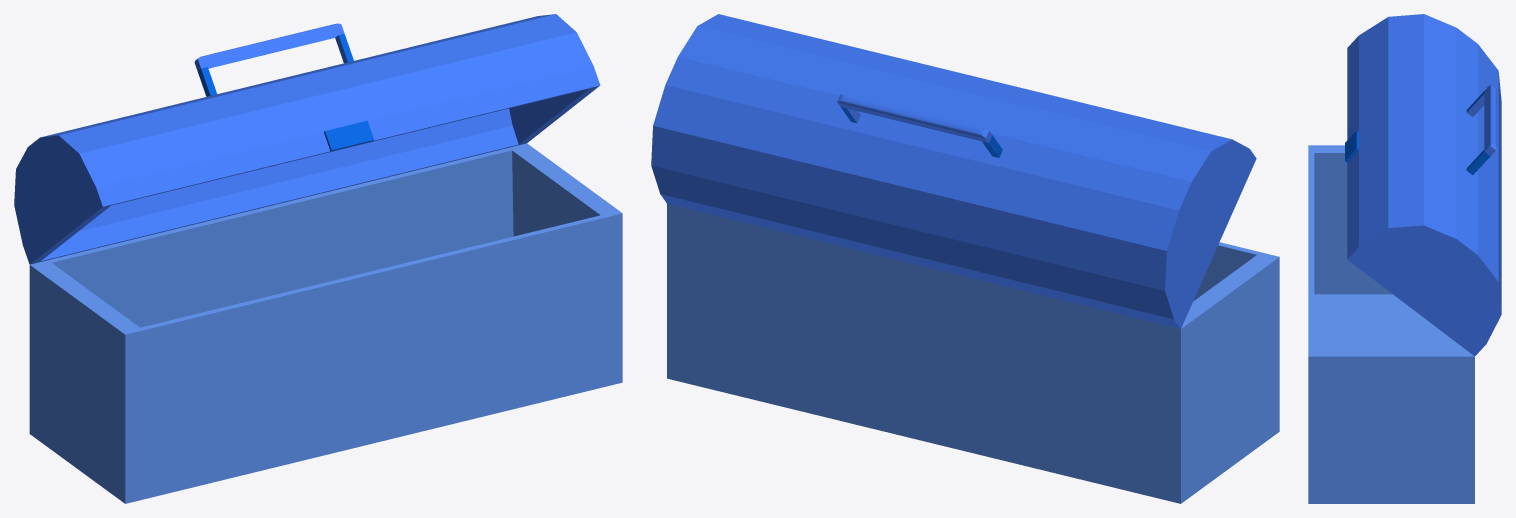
The model's file is Toolbox_1.fbx.
The picture shows the model from 3 angles, left to right: view 1: azimuth 30°, elevation 25°; view 2: azimuth 150°, elevation 25°; view 3: azimuth 270°, elevation 25°; orthographic projection. The views are drawn at different scales.
Parts seen in each view (by area): view 1: lock; view 2: lock; view 3: lock.
Part boxes in pixels (left/top/right/bottom): lock: left=14, top=14, right=622, bottom=503; lock: left=651, top=14, right=1279, bottom=503; lock: left=1308, top=14, right=1501, bottom=503.
Bounding box in the file's own units: 86.4 × 54.05 × 33.43.
